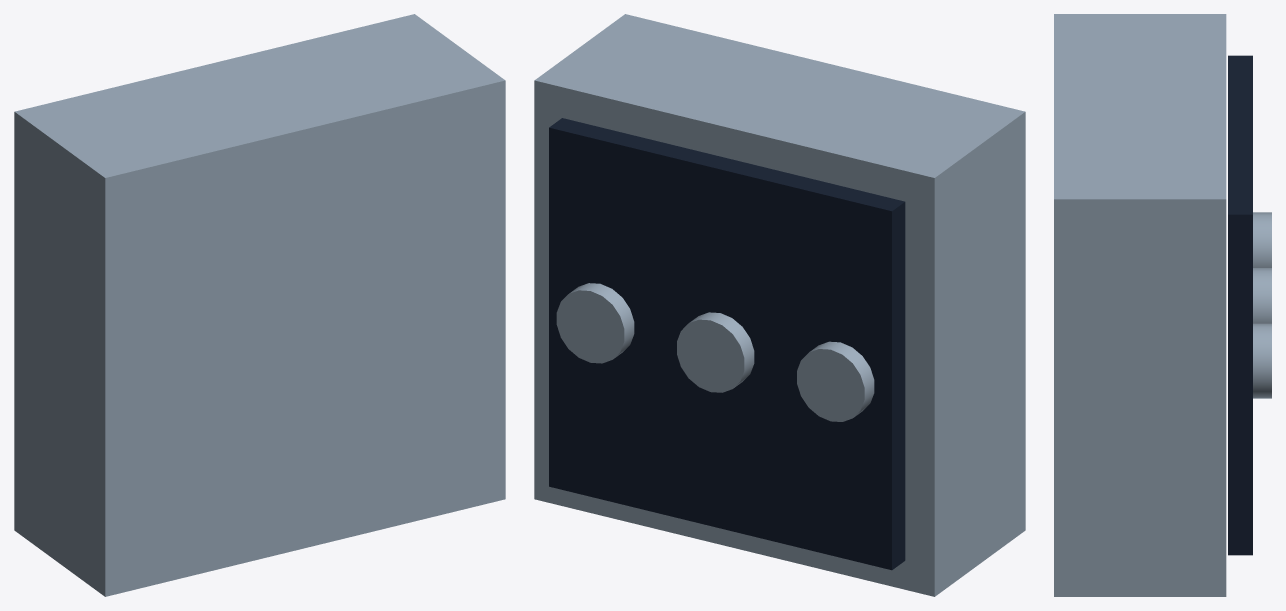
The model's file is junction-box.glb.
The picture shows the model from 3 angles, left to right: view 1: azimuth 30°, elevation 25°; view 2: azimuth 150°, elevation 25°; view 3: azimuth 270°, elevation 25°; orthographic projection. The views are drawn at different scales.
Parts seen in each view (by area): view 1: Junction box; view 2: Junction box; view 3: Junction box.
Boxes of the visible parts, left/top/right/bottom form: Junction box: left=14, top=14, right=505, bottom=596; Junction box: left=534, top=14, right=1025, bottom=596; Junction box: left=1054, top=14, right=1271, bottom=596.
Bounding box in the file's own units: 1.4 × 1.4 × 0.695.
